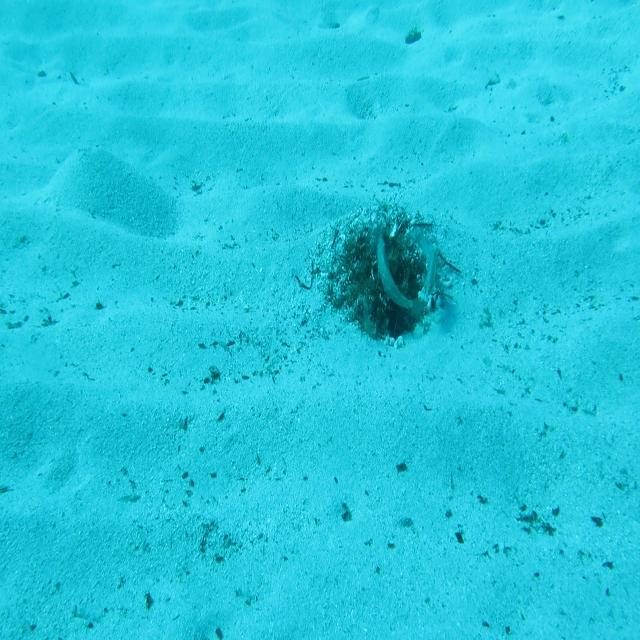DAN_CIRC: (375, 233, 425, 322)
female: (411, 224, 439, 296)
nest: (329, 200, 454, 347)
